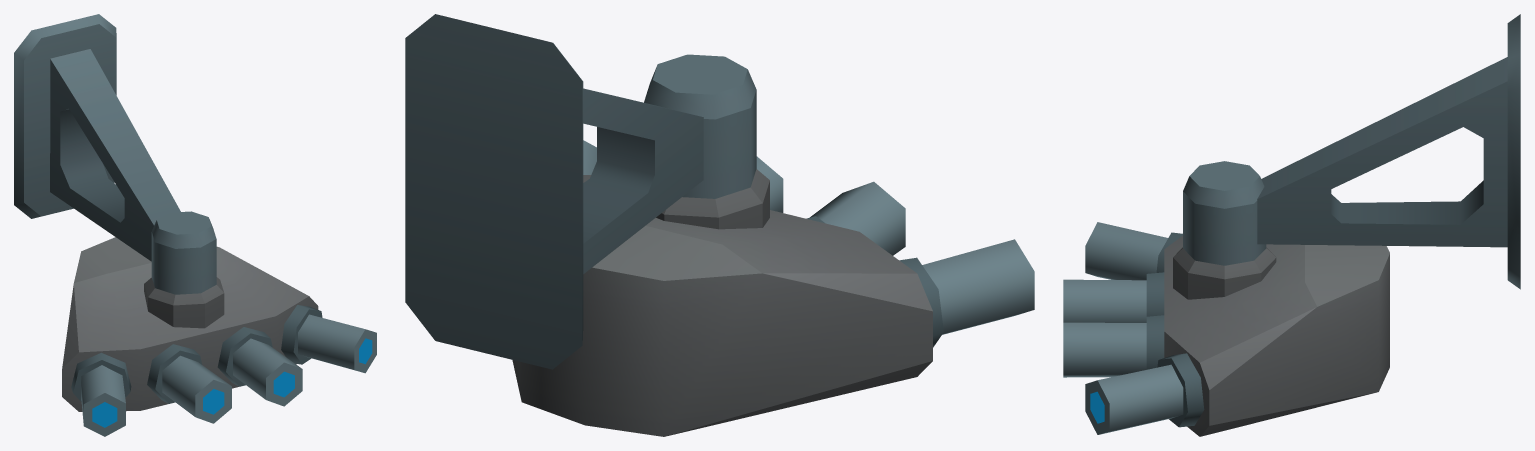
The model's file is Security_cam_011.glb.
3 views of the same model, side by side, from view 1: azimuth 30°, elevation 25°; view 2: azimuth 150°, elevation 25°; view 3: azimuth 270°, elevation 25° (orthographic). The views are drawn at different scales.
Visible parts, largest first — view 1: Cam_011, Security_cam_011; view 2: Cam_011, Security_cam_011; view 3: Cam_011, Security_cam_011.
Boxes of the visible parts, bbox=[...] form: Cam_011: bbox=[62, 237, 376, 436]; Security_cam_011: bbox=[14, 14, 216, 294]; Cam_011: bbox=[512, 140, 1034, 436]; Security_cam_011: bbox=[405, 14, 756, 369]; Cam_011: bbox=[1063, 222, 1389, 436]; Security_cam_011: bbox=[1183, 14, 1520, 289].
Bounding box in the file's own units: 0.4355 × 0.3796 × 0.473.
Materials: 2 (2 with a texture image).
